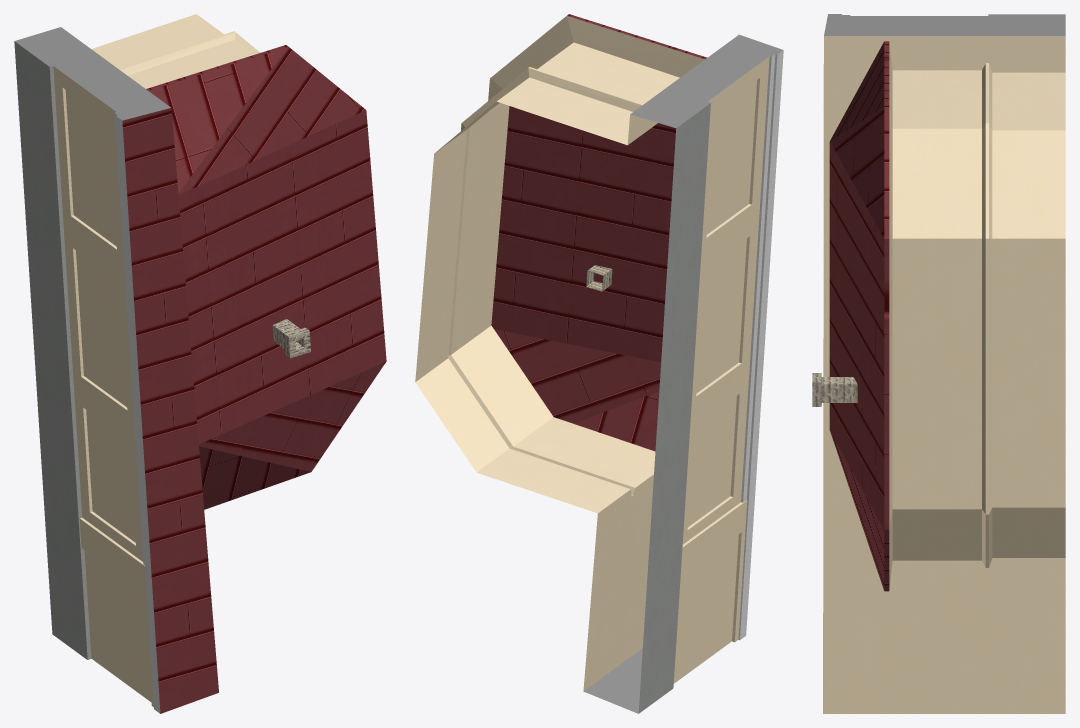
Rendered from Vana_viru_12_2.obj.
3 views of the same model, side by side, from view 1: azimuth 30°, elevation 25°; view 2: azimuth 150°, elevation 25°; view 3: azimuth 270°, elevation 25° (orthographic). The views are drawn at different scales.
Parts seen in each view (by area): view 1: Vana_viru_12_2; view 2: Vana_viru_12_2; view 3: Vana_viru_12_2.
Boxes of the visible parts, x1,y1,x2,y2 form: Vana_viru_12_2: (14, 14, 386, 713); Vana_viru_12_2: (415, 14, 783, 713); Vana_viru_12_2: (812, 14, 1065, 713).
Bounding box in the file's own units: 5.74 × 11.56 × 3.96.
